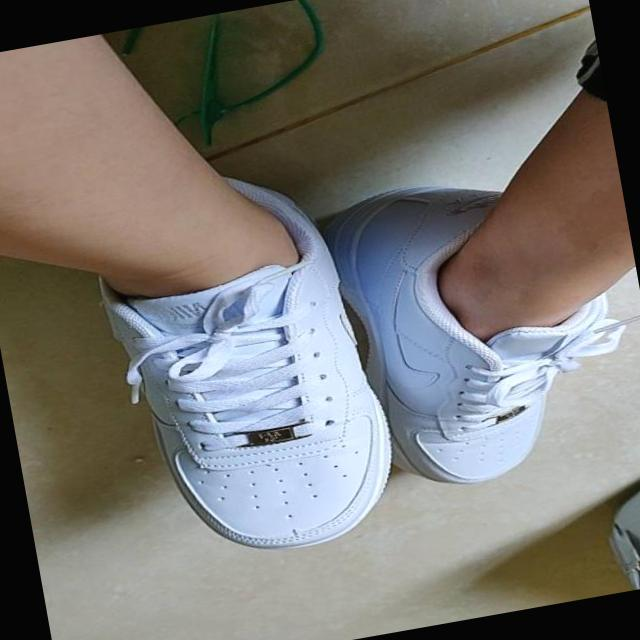nike_fake_airforce: (86, 151, 415, 576), (329, 159, 636, 505)
